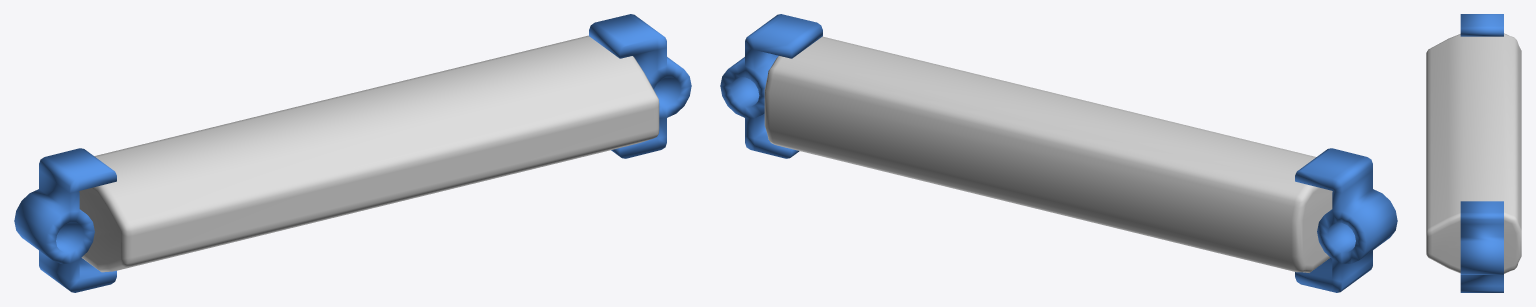
Rendered from guillotine1.fbx.
3 views of the same model, side by side, from view 1: azimuth 30°, elevation 25°; view 2: azimuth 150°, elevation 25°; view 3: azimuth 270°, elevation 25° (orthographic). The views are drawn at different scales.
Visible parts, largest first — view 1: Cylinder.019; view 2: Cylinder.019; view 3: Cylinder.019.
Part boxes in pixels (box(x1,y1,x2,y2)): Cylinder.019: box(14, 14, 691, 292); Cylinder.019: box(720, 14, 1397, 292); Cylinder.019: box(1426, 14, 1521, 292).
Size of the model in its own units: 5.89 by 0.9903 by 1.08.
